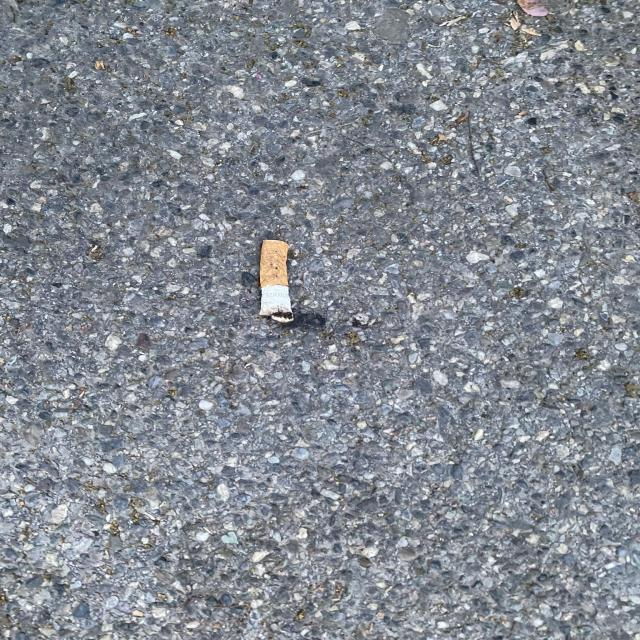other waste: (259, 239, 294, 323)
